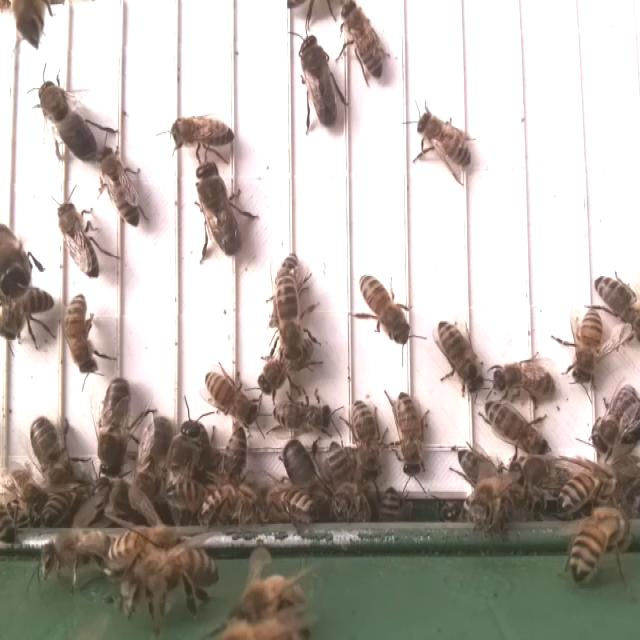Drone: (34, 75, 98, 170), (193, 158, 247, 259), (95, 376, 134, 482), (298, 32, 339, 129)
Worker: (357, 271, 413, 348), (95, 144, 143, 228), (339, 0, 386, 83), (57, 198, 102, 282), (485, 400, 549, 458), (0, 283, 58, 346), (592, 378, 640, 454), (414, 110, 473, 170), (437, 318, 481, 394), (62, 291, 99, 379), (202, 366, 256, 426), (350, 392, 385, 482), (395, 388, 428, 479), (274, 271, 305, 364), (568, 307, 604, 387), (592, 272, 640, 331), (166, 113, 238, 152), (491, 359, 554, 400), (273, 394, 334, 436)
